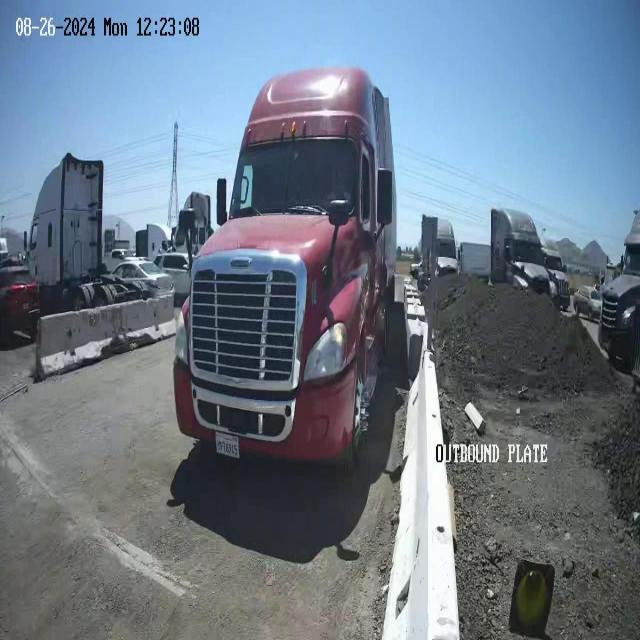TRUCK_OUT: (172, 65, 398, 471)
